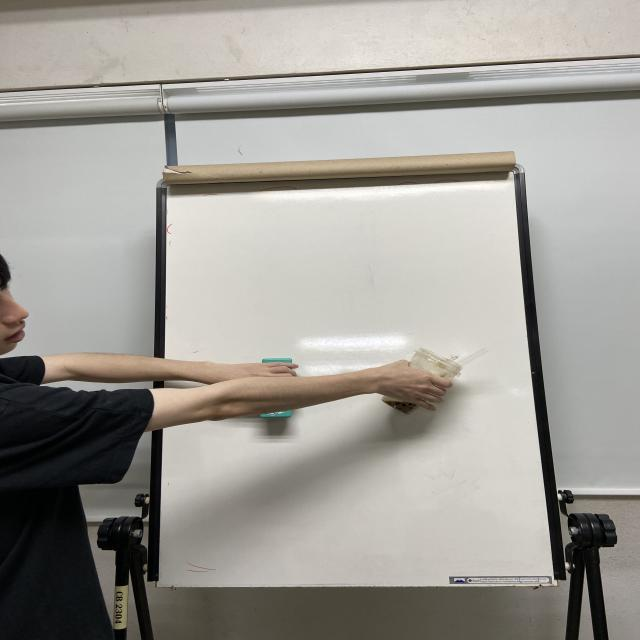cup: (379, 346, 463, 417)
